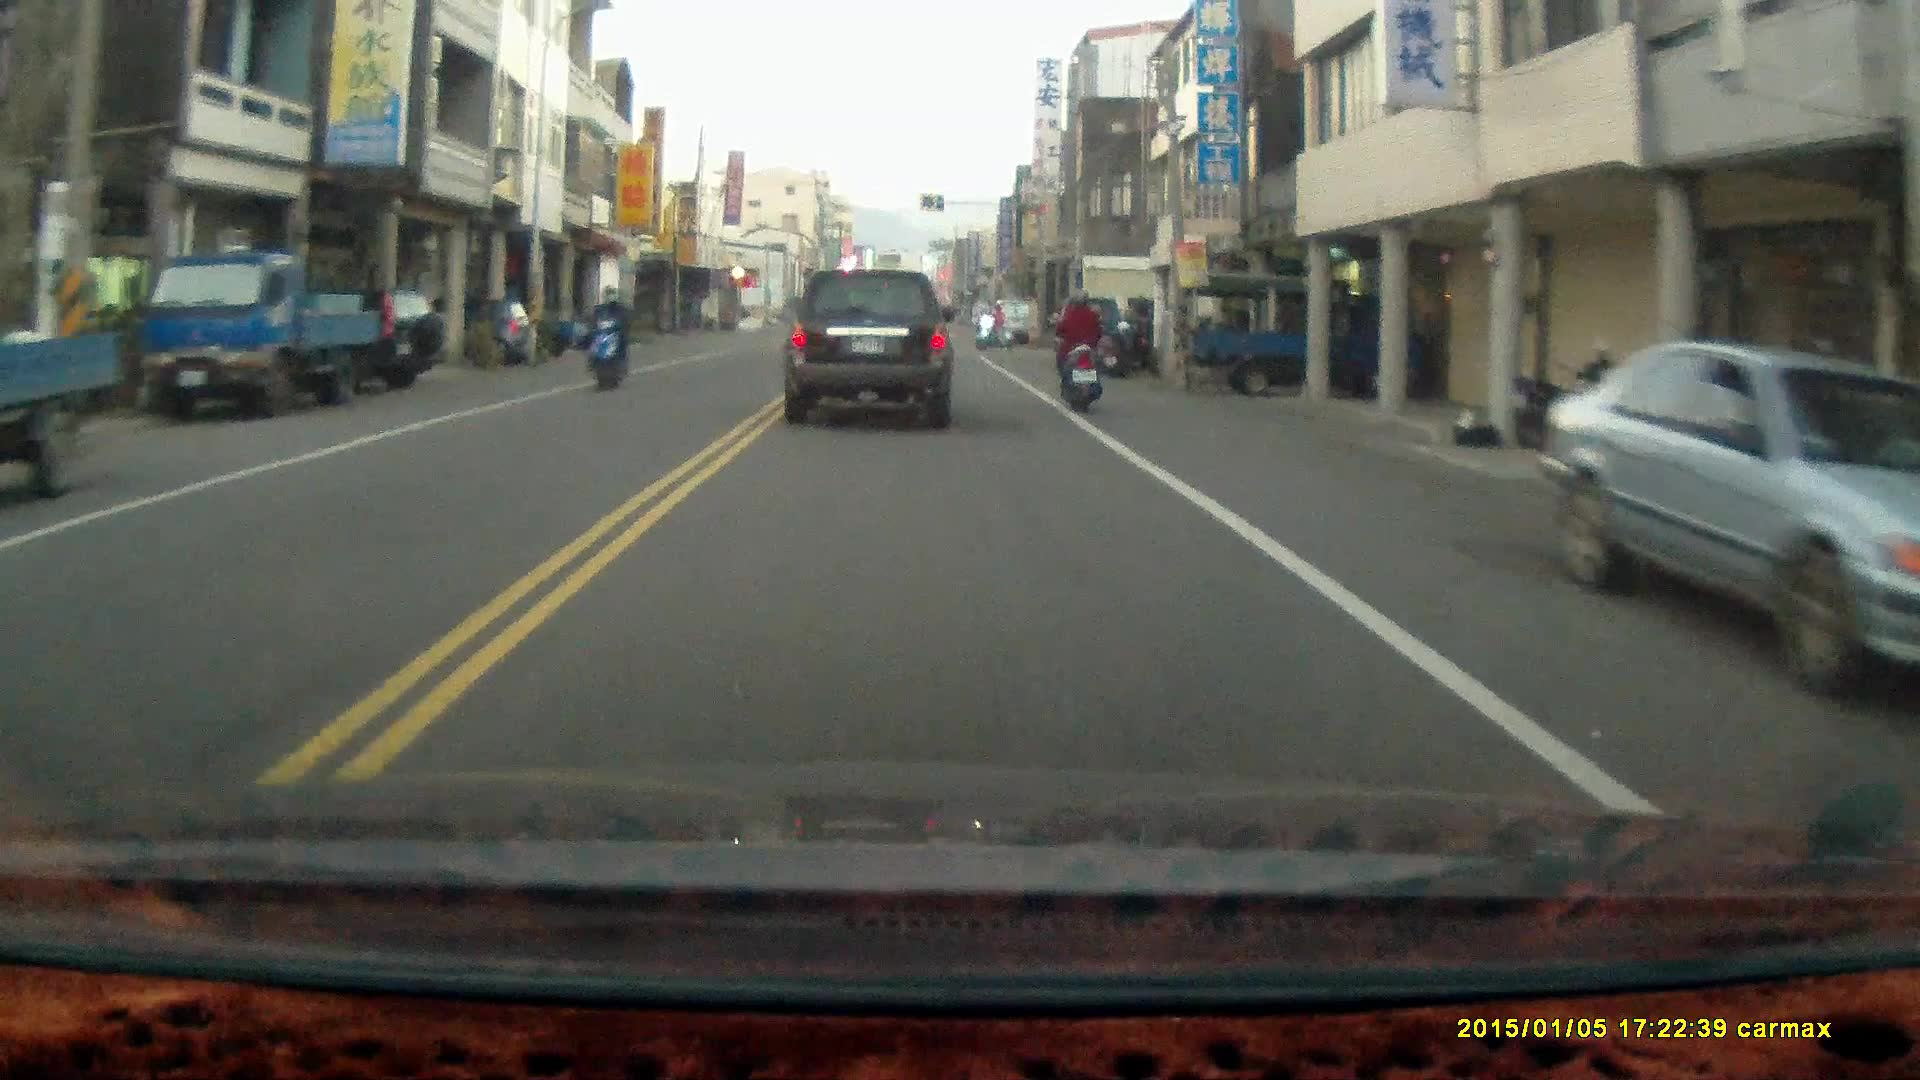rider: (1054, 286, 1106, 415), (583, 281, 632, 391), (974, 298, 1013, 347)
vehicle: (1536, 341, 1920, 715), (130, 249, 379, 417), (1, 234, 144, 503), (1183, 266, 1443, 396), (782, 266, 958, 431), (288, 289, 448, 392)
